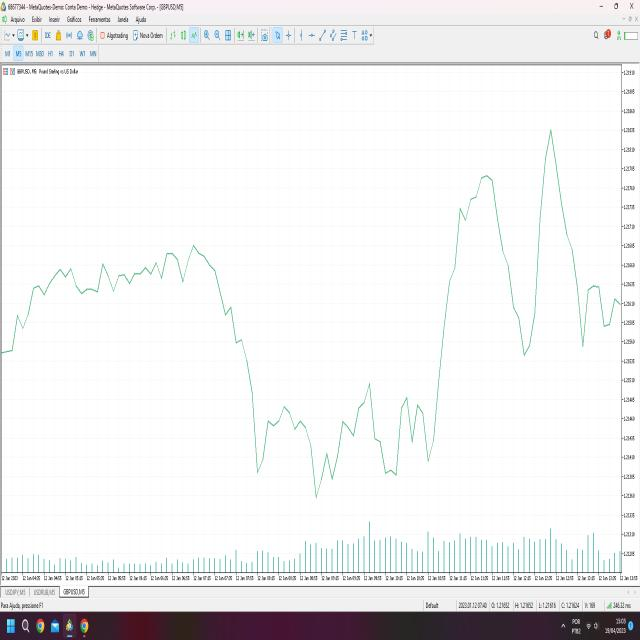oco_inv: (240, 340, 409, 521)
topo_duplo: (430, 84, 585, 414)
